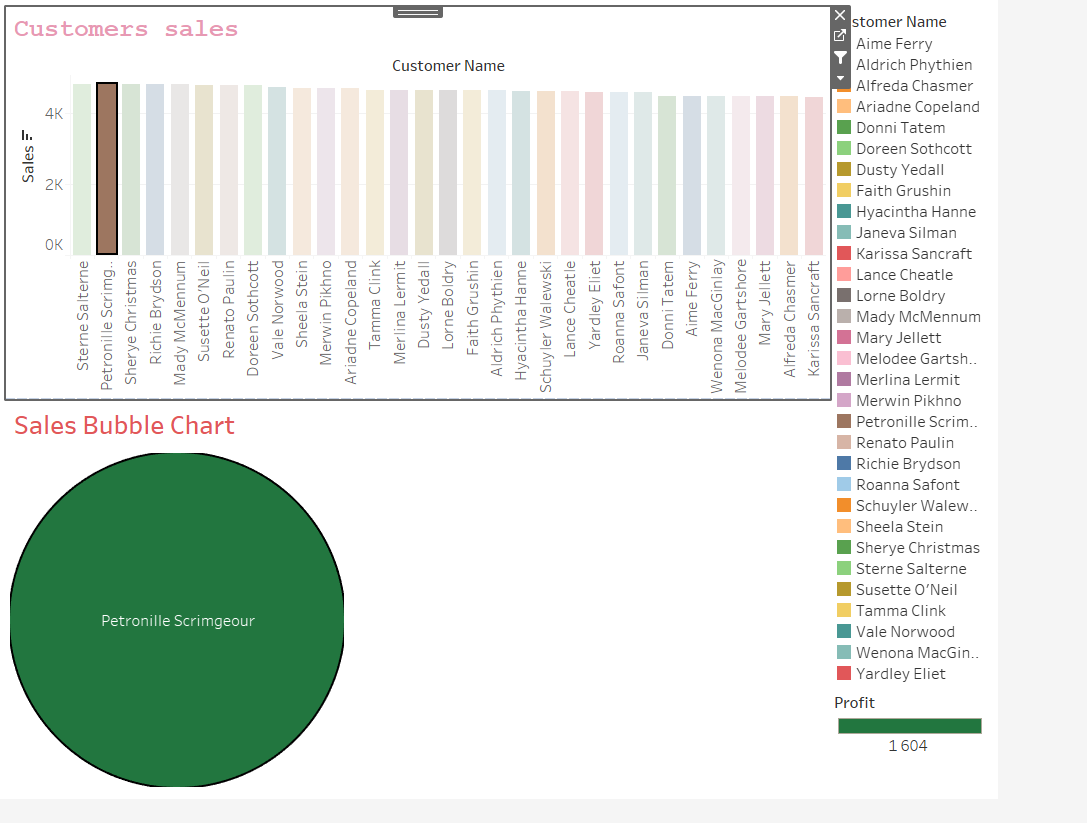

Layout of this report page (visuals, bound fields, positions):
{"tool":"tableau","page":{"name":"Dashboard","canvas":[1000,800],"ordinal":0},"visuals":[{"type":"worksheet","title":"Customers sales","mark":"Automatic","rows":["Sales"],"cols":["Customer Name"],"box":[8,8,824,392]},{"type":"legend","title":"Customers sales","param":"[federated.03yj9sn1jrs5rl1c7gicy04twg61].[none:Customer Name:nk]","box":[832,8,160,681]},{"type":"worksheet","title":"Sales Bubble Chart","mark":"Circle","box":[8,400,824,392]},{"type":"legend","title":"Sales Bubble Chart","param":"[federated.03yj9sn1jrs5rl1c7gicy04twg61].[sum:Calculation_169166475149656064:qk]","box":[832,689,160,73]}]}

Visuals, with their boxes in screenshot pixels (x1, y1, x2, y2):
"Customers sales" worksheet: 0:2:834:401
"Customers sales" legend: 834:2:996:694
"Sales Bubble Chart" worksheet (Circle marks): 0:401:834:799
"Sales Bubble Chart" legend: 834:694:996:768
